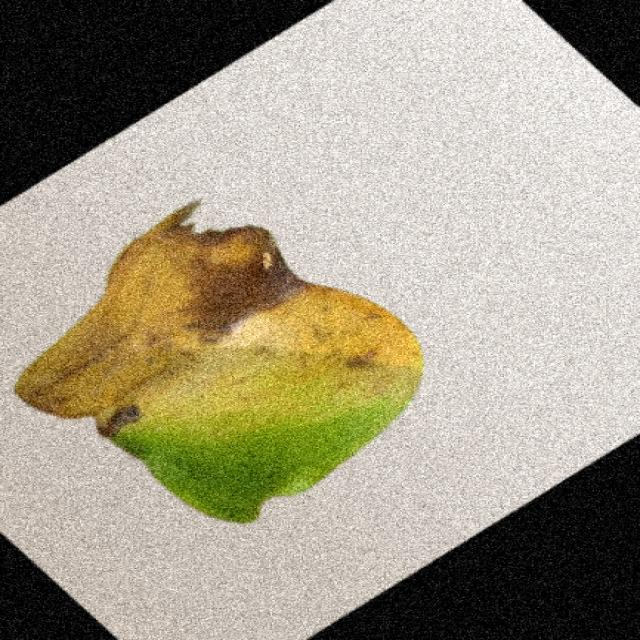daun berpenyakit kuning: (15, 202, 423, 522)
